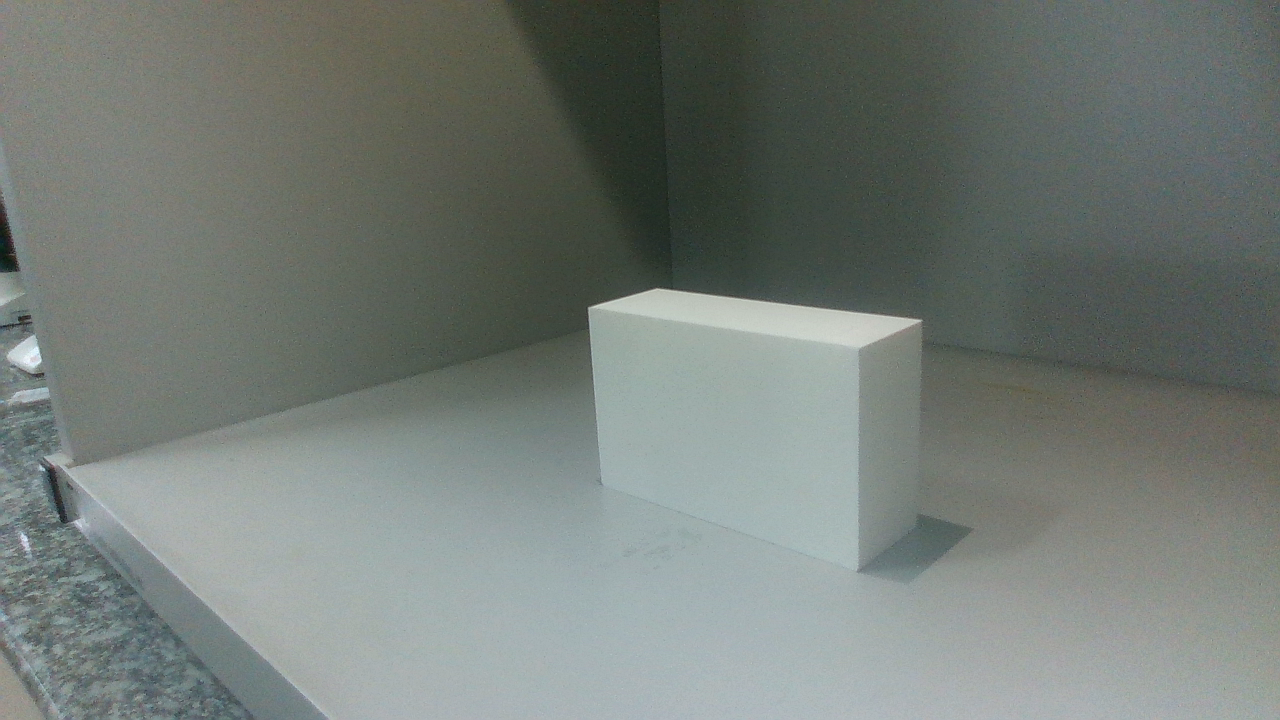Retangulo: (589, 289, 922, 569)
